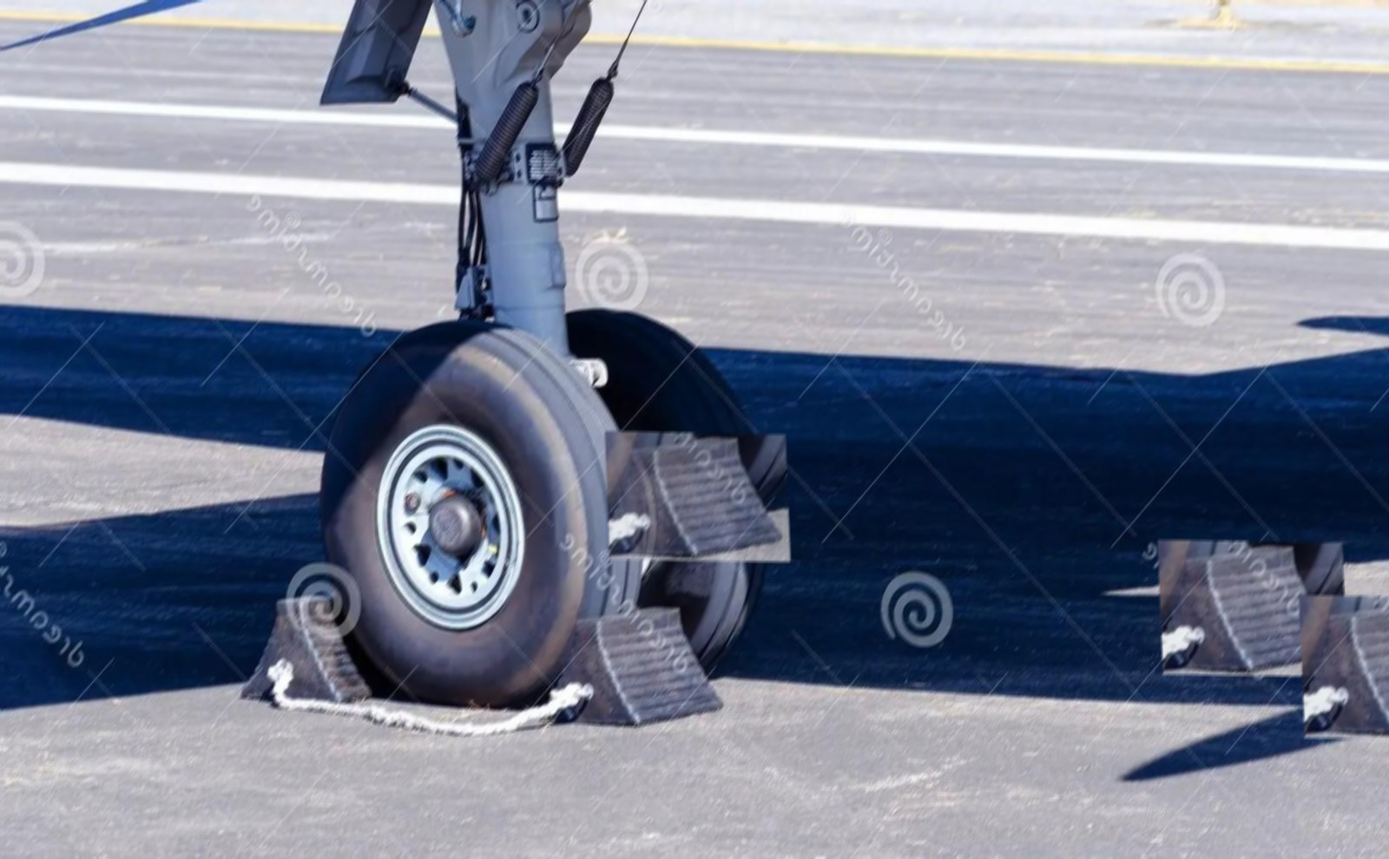chock: (1156, 540, 1347, 677), (603, 431, 789, 562), (547, 602, 730, 731), (235, 590, 374, 715), (1297, 595, 1389, 740)
wheel: (313, 315, 652, 705), (555, 304, 777, 681)
